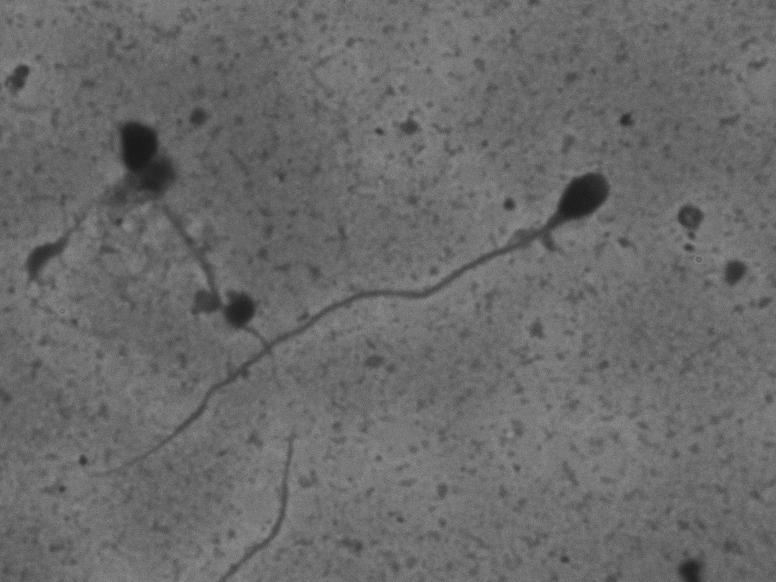Abnormal: (83, 77, 290, 363)
Normal: (76, 160, 628, 493)
